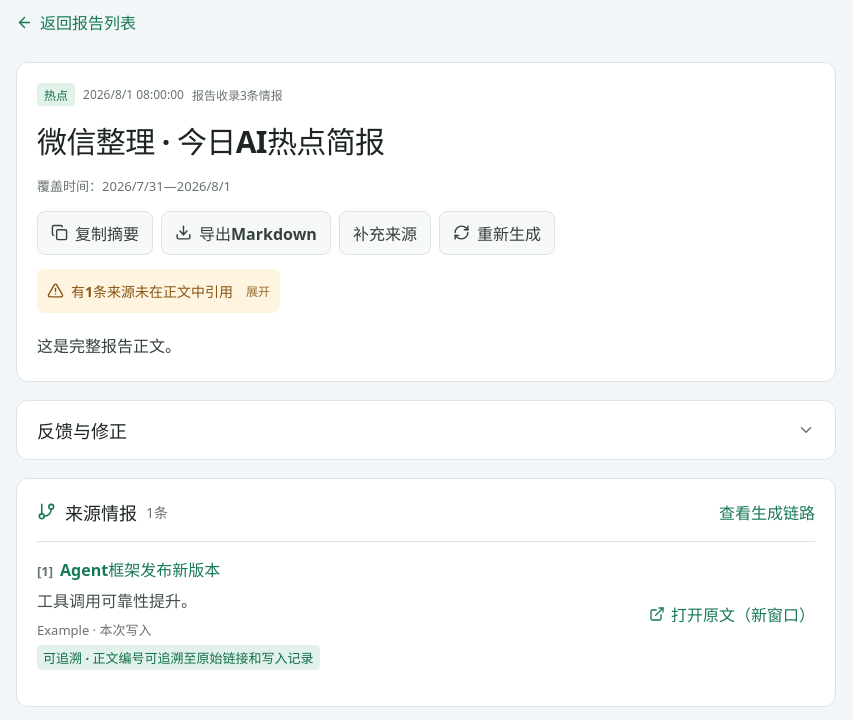
Test: 引用不完整时可以展开查看具体来源
Click the heading "有1条来源未在正文中引用": {"x": 140, "y": 291} [47,282,233,300]
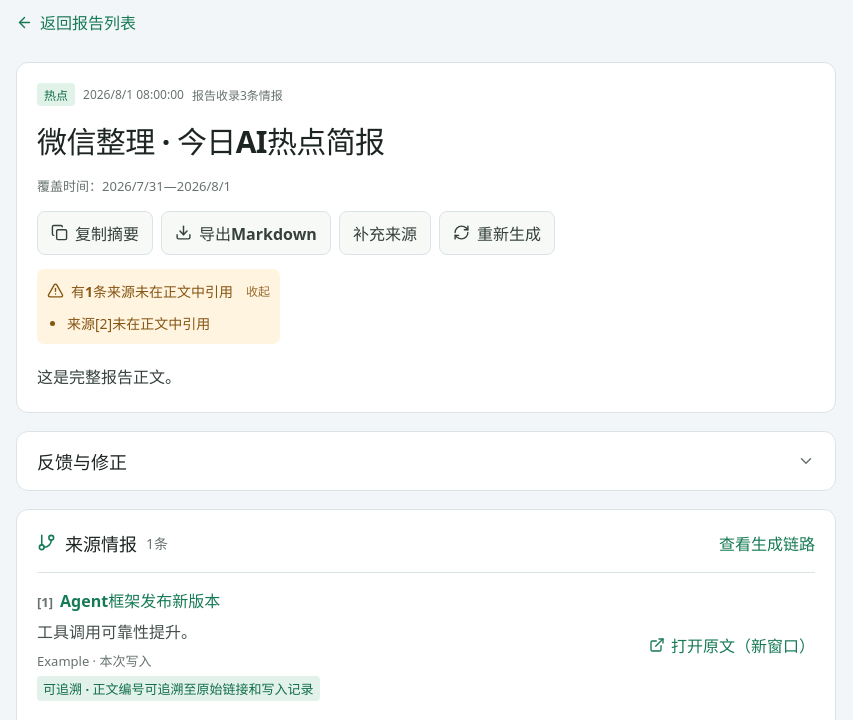
Check: the list item "来源[2]未在正文中引用" is shown, box [67,314,210,332]
